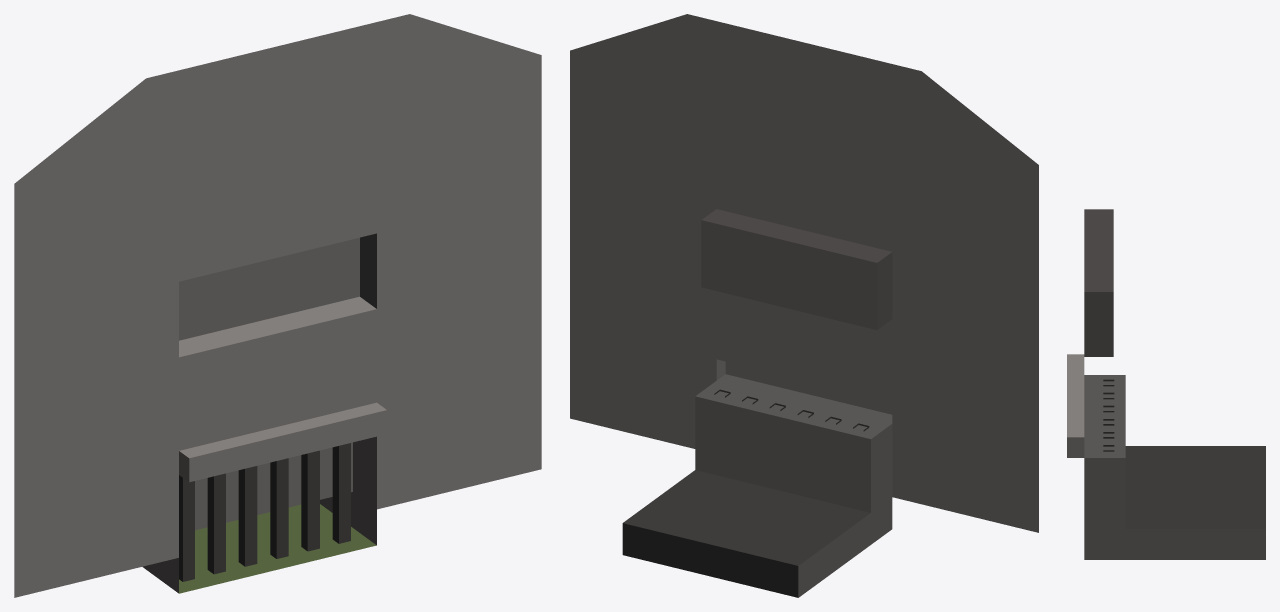
File: AI_Env_Sewer_Wall_End.fbx
3 views of the same model, side by side, from view 1: azimuth 30°, elevation 25°; view 2: azimuth 150°, elevation 25°; view 3: azimuth 270°, elevation 25° (orthographic). The views are drawn at different scales.
Parts seen in each view (by area): view 1: AI_Env_Sewer_Wall_End; view 2: AI_Env_Sewer_Wall_End; view 3: AI_Env_Sewer_Wall_End.
Boxes of the visible parts, <box> form: AI_Env_Sewer_Wall_End: <box>14,14,541,597</box>; AI_Env_Sewer_Wall_End: <box>570,14,1038,597</box>; AI_Env_Sewer_Wall_End: <box>1067,209,1265,559</box>.
Bounding box in the file's own units: 5 × 4.74 × 1.9.
